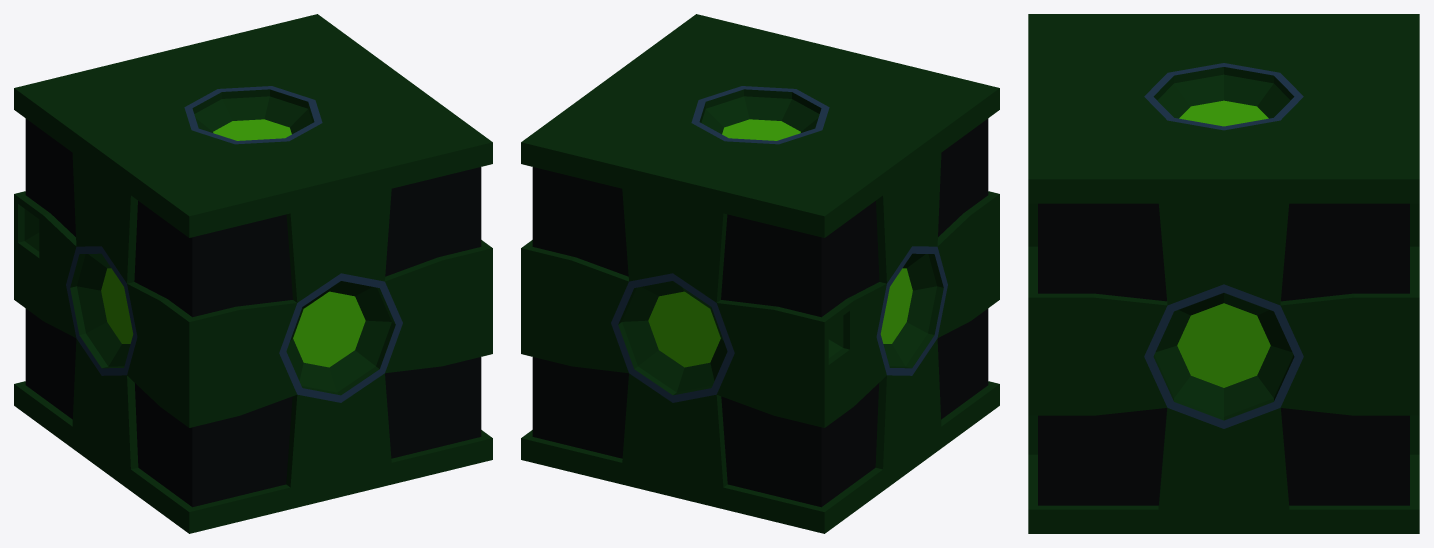
The model's file is 05_Box_Glow.fbx.
3 views of the same model, side by side, from view 1: azimuth 30°, elevation 25°; view 2: azimuth 150°, elevation 25°; view 3: azimuth 270°, elevation 25° (orthographic). The views are drawn at different scales.
Parts seen in each view (by area): view 1: box1; view 2: box1; view 3: box1.
Part boxes in pixels (x1,y1,x2,y2): box1: (14,14,492,533); box1: (521,14,999,533); box1: (1028,14,1419,533).
Size of the model in its own units: 1 by 1 by 1.
